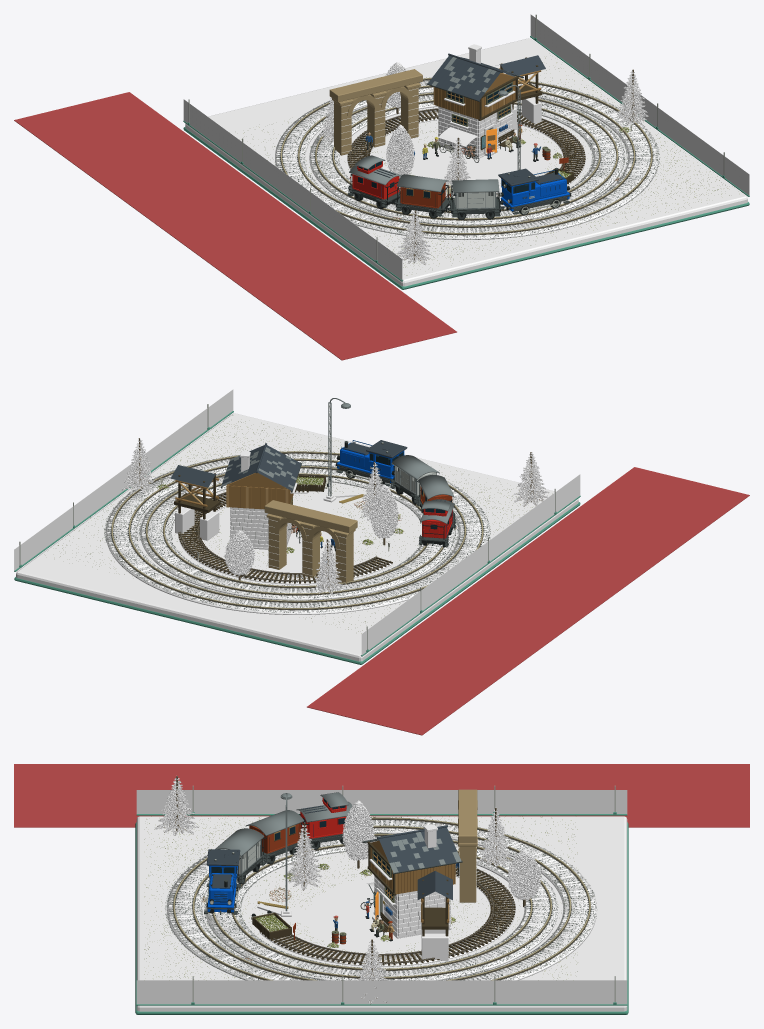
3 renders of one model, top to bottom at view 1: azimuth 30°, elevation 25°; view 2: azimuth 150°, elevation 25°; view 3: azimuth 270°, elevation 25°, orthographic. The views are drawn at different scales.
Visible parts, largest first — view 1: Red aisle carpet • left of exhibit.001, Exhibition display • grass-covered base.001, Ballast shoulder — loop 1.001, 47,500 loose angular ballast stones.001, Individually spaced timber sleepers & fasteners 1.001, Ballast shoulder — loop 0.001, Clear safety panel.002, Clear safety panel.003, Individually spaced timber sleepers & fasteners 0.001, Station forecourt • blue-grey painted paving.001, Mint green display fascia.001, Arcade parapet.001 (+21 smaller); view 2: Red aisle carpet • left of exhibit.001, Exhibition display • grass-covered base.001, Ballast shoulder — loop 1.001, 47,500 loose angular ballast stones.001, Individually spaced timber sleepers & fasteners 1.001, Clear safety panel.002, Ballast shoulder — loop 0.001, Clear safety panel.003, Individually spaced timber sleepers & fasteners 0.001, Mint green display fascia.001, Arcade parapet.001, Tall lime-green park tree • superfine green foam foliage.001 (+22 smaller); view 3: Exhibition display • grass-covered base.001, Red aisle carpet • left of exhibit.001, Clear safety panel.003, Clear safety panel.002, Ballast shoulder — loop 1.001, 47,500 loose angular ballast stones.001, Individually spaced timber sleepers & fasteners 1.001, Ballast shoulder — loop 0.001, Individually spaced timber sleepers & fasteners 0.001, Station forecourt • blue-grey painted paving.001, Mint green display fascia.001, Sand and cinders • station siding.001 (+35 smaller).
Part boxes in pixels (x1,y1,x2,y2): Red aisle carpet • left of exhibit.001: (14,92,456,360); Exhibition display • grass-covered base.001: (185,38,747,286); Ballast shoulder — loop 1.001: (275,80,658,239); 47,500 loose angular ballast stones.001: (275,77,658,237); Individually spaced timber sleepers & fasteners 1.001: (276,80,656,237); Ballast shoulder — loop 0.001: (309,95,623,225); Clear safety panel.002: (183,99,402,280); Clear safety panel.003: (530,14,749,195); Individually spaced timber sleepers & fasteners 0.001: (311,94,621,222); Station forecourt • blue-grey painted paving.001: (411,133,554,183); Mint green display fascia.001: (183,127,749,289); Arcade parapet.001: (329,69,422,102); Red aisle carpet • left of exhibit.001: (307,467,749,735); Exhibition display • grass-covered base.001: (16,413,578,661); Ballast shoulder — loop 1.001: (105,453,488,614); 47,500 loose angular ballast stones.001: (106,451,488,613); Individually spaced timber sleepers & fasteners 1.001: (107,453,487,612); Clear safety panel.002: (361,474,580,655); Ballast shoulder — loop 0.001: (140,468,454,600); Clear safety panel.003: (14,389,233,570); Individually spaced timber sleepers & fasteners 0.001: (142,467,452,597); Mint green display fascia.001: (14,502,580,664); Arcade parapet.001: (264,500,357,533); Tall lime-green park tree • superfine green foam foliage.001: (370,484,398,538); Exhibition display • grass-covered base.001: (136,816,627,1011); Red aisle carpet • left of exhibit.001: (14,764,749,827); Clear safety panel.003: (136,980,627,1004); Clear safety panel.002: (136,790,627,813); Ballast shoulder — loop 1.001: (166,820,597,980); 47,500 loose angular ballast stones.001: (167,817,596,980); Individually spaced timber sleepers & fasteners 1.001: (168,819,595,980); Ballast shoulder — loop 0.001: (205,836,558,980); Individually spaced timber sleepers & fasteners 0.001: (208,835,556,980); Station forecourt • blue-grey painted paving.001: (305,879,412,951); Mint green display fascia.001: (135,822,628,1014); Sand and cinders • station siding.001: (259,868,515,966).
Bounding box in the file's own units: 24.67 × 5.82 × 30.
